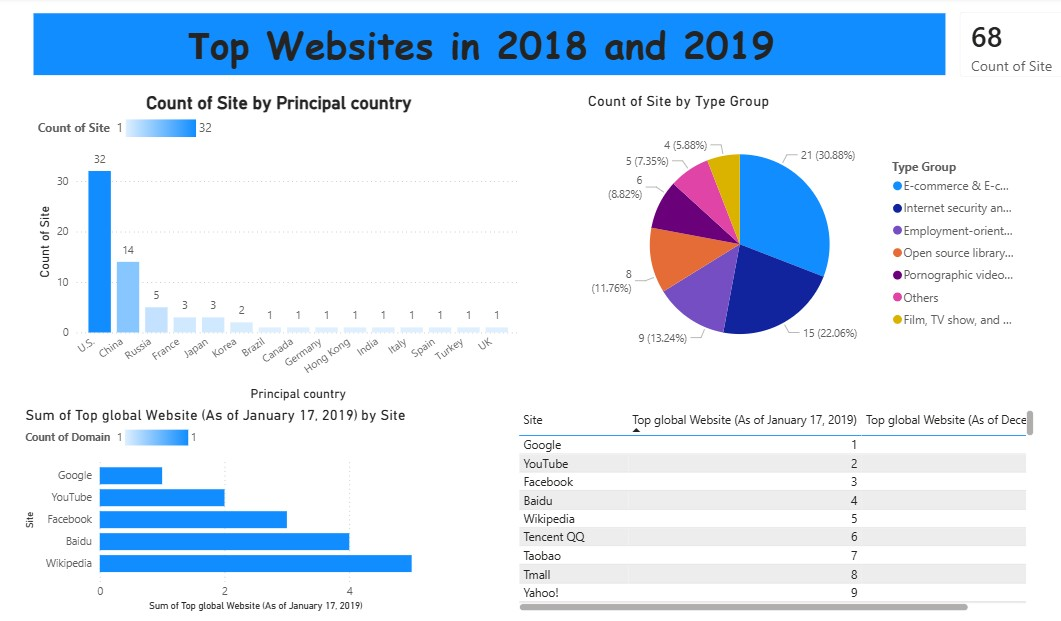

The dashboard page shown, as its layout file describes it:
{"tool":"powerbi","page":{"name":"Page 1","canvas":[1280,720],"ordinal":0},"visuals":[{"type":"cardVisual","fields":{"Data":["CountNonNull(Sheet2.Site)"]},"box":[1119.6,0,160.1,108.2],"z":0},{"type":"columnChart","fields":{"Y":["CountNonNull(Sheet2.Site)"],"Category":["Sheet2.Principal country"]},"box":[82.2,108.2,558.3,356.4],"z":1000},{"type":"pieChart","fields":{"Y":["CountNonNull(Sheet2.Site)"],"Category":["Sheet2.Type Group"]},"box":[708.4,108.2,505,327.5],"z":2000},{"type":"barChart","fields":{"Y":["Sum(Sheet2.Alexa top 50 global sites (As of January 17, 2019).1.1)"],"Category":["Sheet2.Site"]},"box":[68.3,465.1,453.7,238.9],"z":3000},{"type":"textbox","box":[82.2,18.8,1037.3,70.7],"z":4000},{"type":"tableEx","fields":{"Values":["Sheet2.Site","Sum(Sheet2.Alexa top 50 global sites (As of January 17, 2019).1.1)","Sum(Sheet2.SimilarWeb top 50 sites (As of December 2018).1)"]},"box":[628.6,465.1,597.3,238.9],"z":5000}]}

Visuals, with their boxes on the page's 1280x720 design canvas (x1, y1, x2, y2). These are canvas units, not pixel positions in the 1061x621 screenshot, which may show the page scaled, cropped or inside an application window:
cardVisual - CountNonNull(Sheet2.Site): [1120,0,1280,108]
columnChart - CountNonNull(Sheet2.Site) x Sheet2.Principal country: [82,108,640,465]
pieChart - CountNonNull(Sheet2.Site) x Sheet2.Type Group: [708,108,1213,436]
barChart - Sum(Sheet2.Alexa top 50 global sites (As of January 17, 2019).1.1) x Sheet2.Site: [68,465,522,704]
textbox: [82,19,1120,90]
tableEx - Sheet2.Site x Sum(Sheet2.Alexa top 50 global sites (As of January 17, 2019).1.1): [629,465,1226,704]
